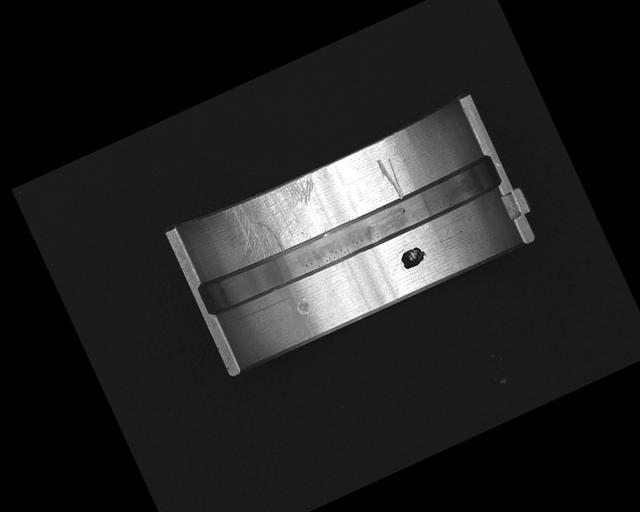blot: (397, 243, 429, 271)
bruise: (293, 295, 313, 317)
gap: (196, 152, 504, 320)
nick: (374, 154, 408, 203)
scratch: (215, 170, 334, 271)
